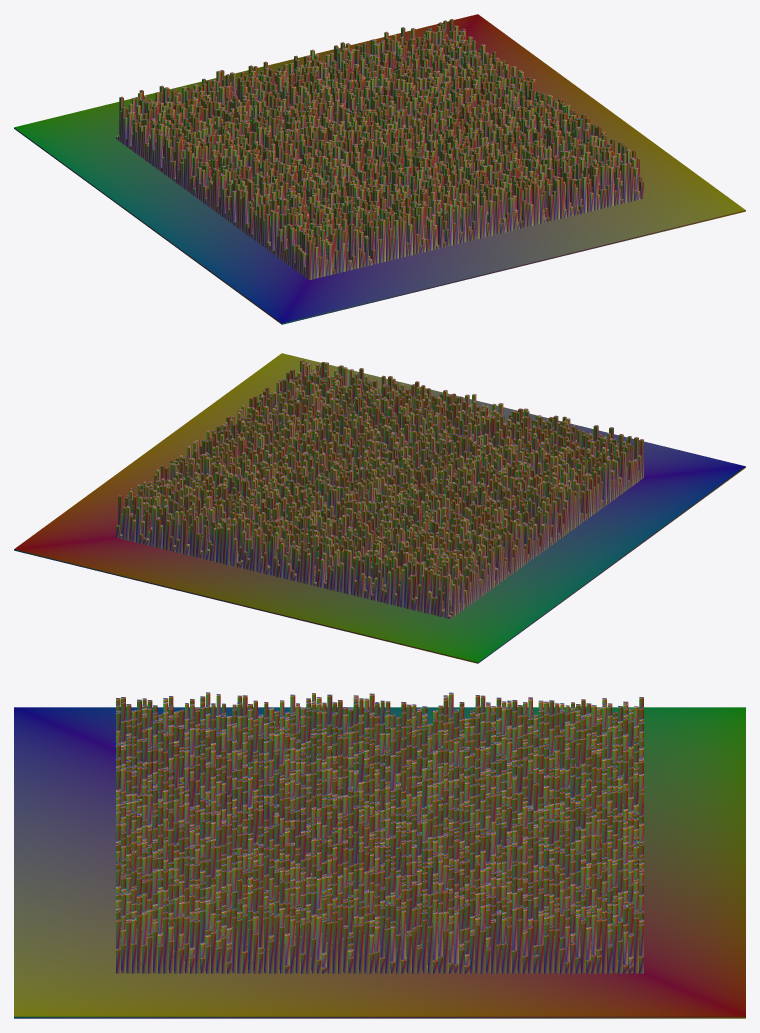
Rendered from city.gltf.
3 views of the same model, one above another, from view 1: azimuth 30°, elevation 25°; view 2: azimuth 150°, elevation 25°; view 3: azimuth 270°, elevation 25° (orthographic). The views are drawn at different scales.
Visible parts, largest first — view 1: Ground; view 2: Ground; view 3: Ground.
Boxes of the visible parts, bbox=[...] form: Ground: bbox=[14, 14, 745, 324]; Ground: bbox=[14, 353, 745, 663]; Ground: bbox=[14, 707, 745, 1018].
Bounding box in the file's own units: 360 × 32.96 × 360.
